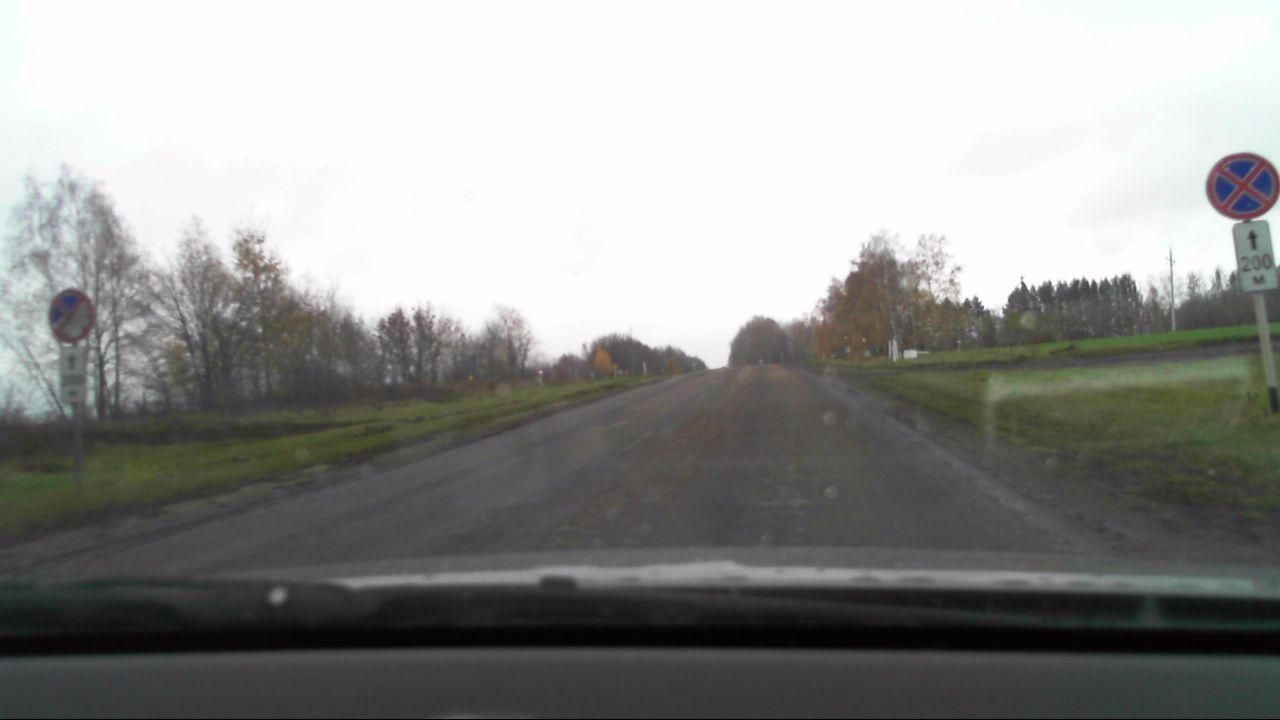3_27: (1197, 147, 1280, 220), (46, 290, 97, 343)
8_2_2: (1232, 218, 1278, 293), (58, 345, 87, 404)
